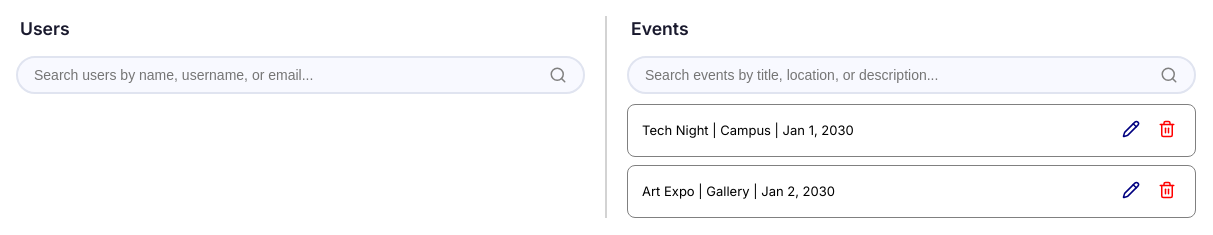
Test: AdminManagement search tests › filters events by description text
Check: the text "Tech Night | Campus | Jan 1, 2030" is shown, box [642,121,854,140]
Check: the text "Art Expo | Gallery | Jan 2, 2030" is shown, box [642,182,835,201]
Type "painting" into the field with placeholder "Search events by title, location, or description..." at (902, 75), box [645,67,1160,83]
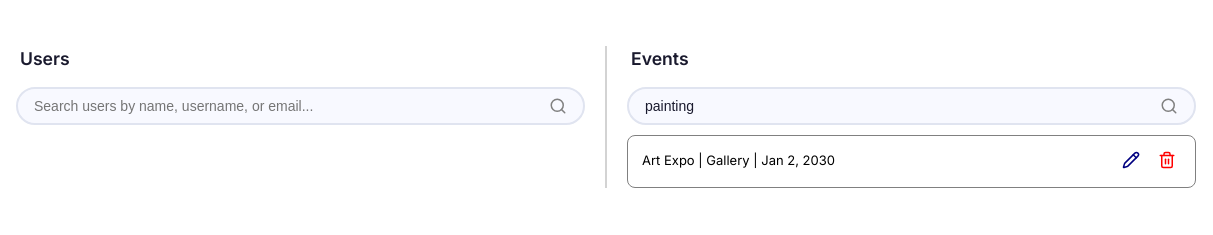
Check: the text "Art Expo | Gallery | Jan 2, 2030" is shown, box [642,151,835,171]
Check: the text "Tech Night" is gone
